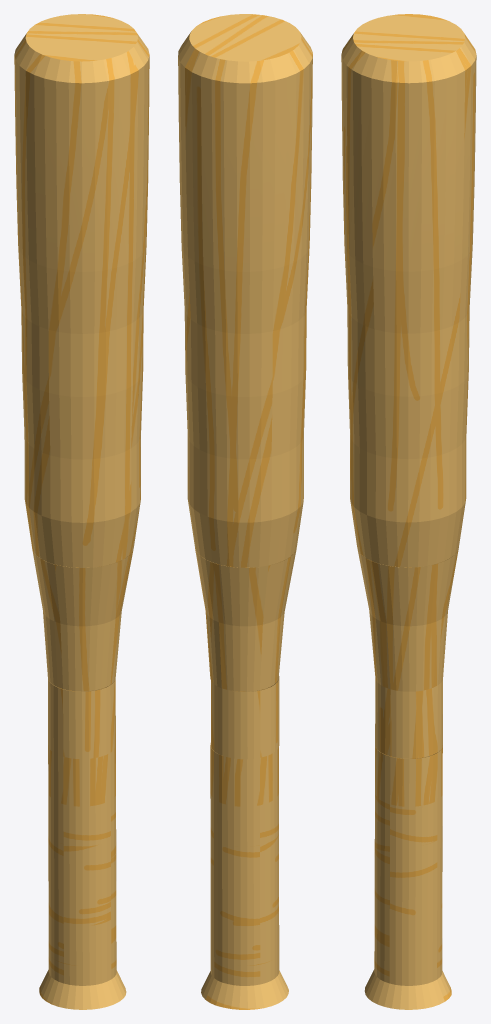
File: bat.obj
The picture shows the model from 3 angles, left to right: view 1: azimuth 90°, elevation 25°; view 2: azimuth 150°, elevation 25°; view 3: azimuth 270°, elevation 25°; orthographic projection.
Visible parts, largest first — view 1: 円柱.007; view 2: 円柱.007; view 3: 円柱.007.
Boxes of the visible parts, x1,y1,x2,y2 form: 円柱.007: (14, 14, 149, 1009); 円柱.007: (178, 14, 312, 1009); 円柱.007: (341, 14, 476, 1009).
Size of the model in its own units: 1.02 by 7.97 by 1.02.
